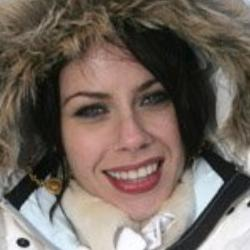face: (4, 5, 224, 225)
